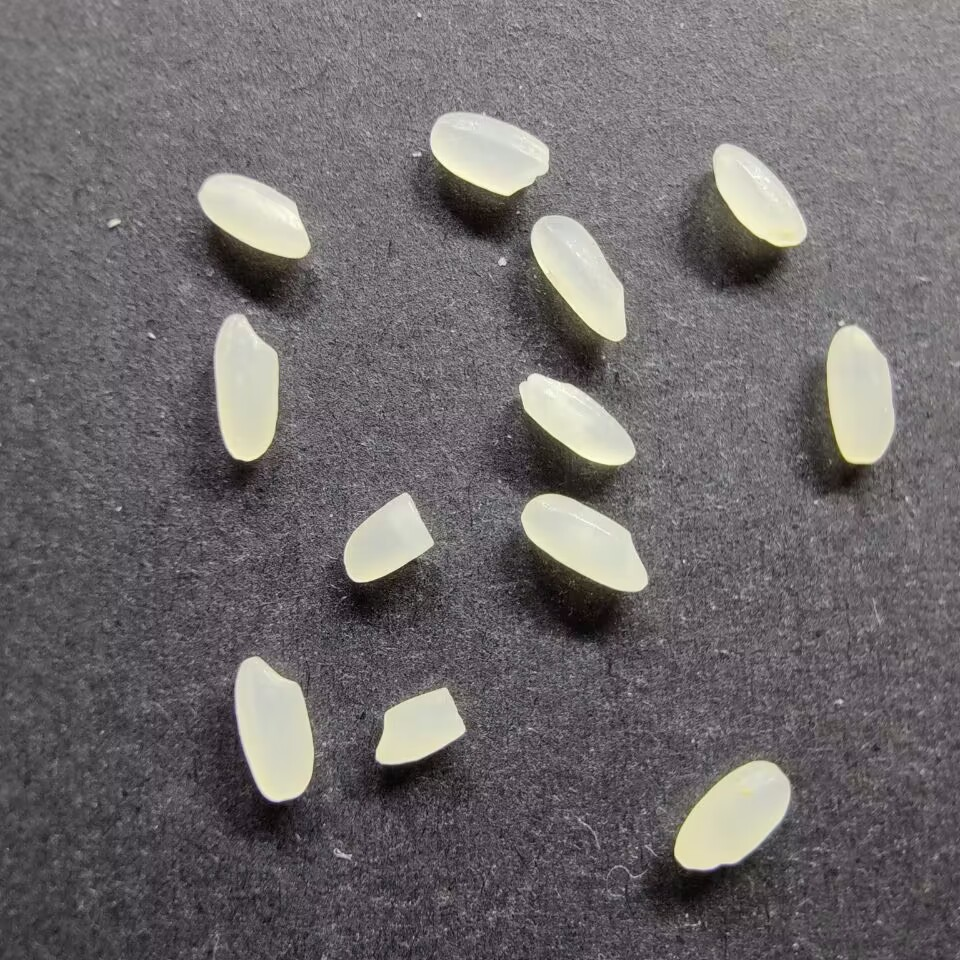broken: (342, 491, 435, 585), (371, 686, 468, 768)
rice: (671, 759, 794, 872), (519, 493, 650, 596), (528, 213, 630, 344), (233, 653, 316, 803), (518, 370, 637, 465), (212, 309, 282, 463), (710, 141, 809, 249), (428, 110, 550, 197), (824, 324, 897, 465), (197, 171, 310, 262)
